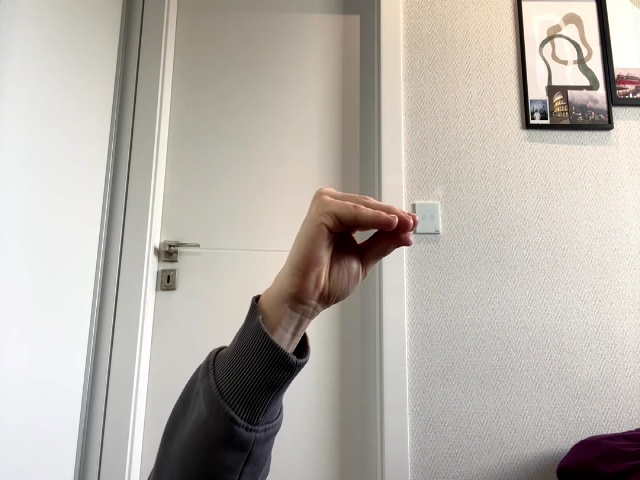E: (275, 188, 418, 326)
